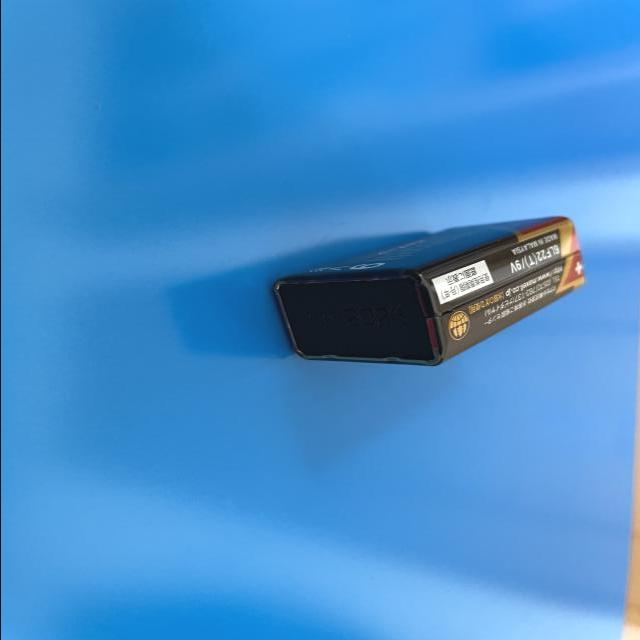9V: (272, 217, 583, 368)
